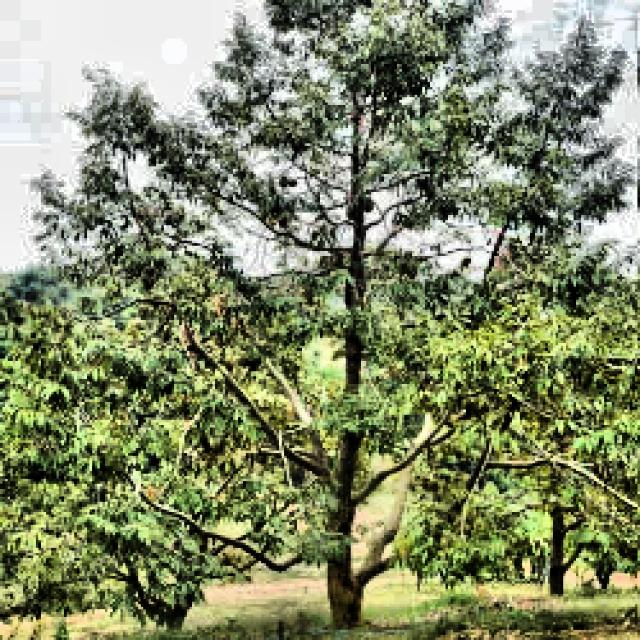arvore: (329, 102, 382, 636)
